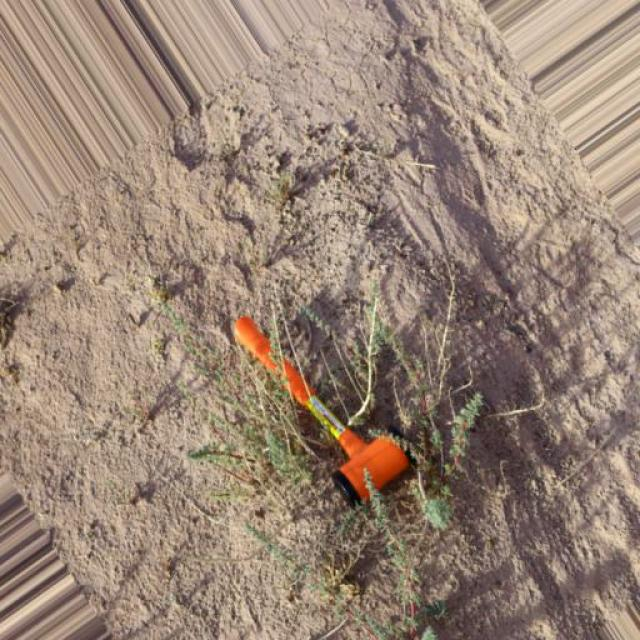mallet: (231, 314, 415, 508)
